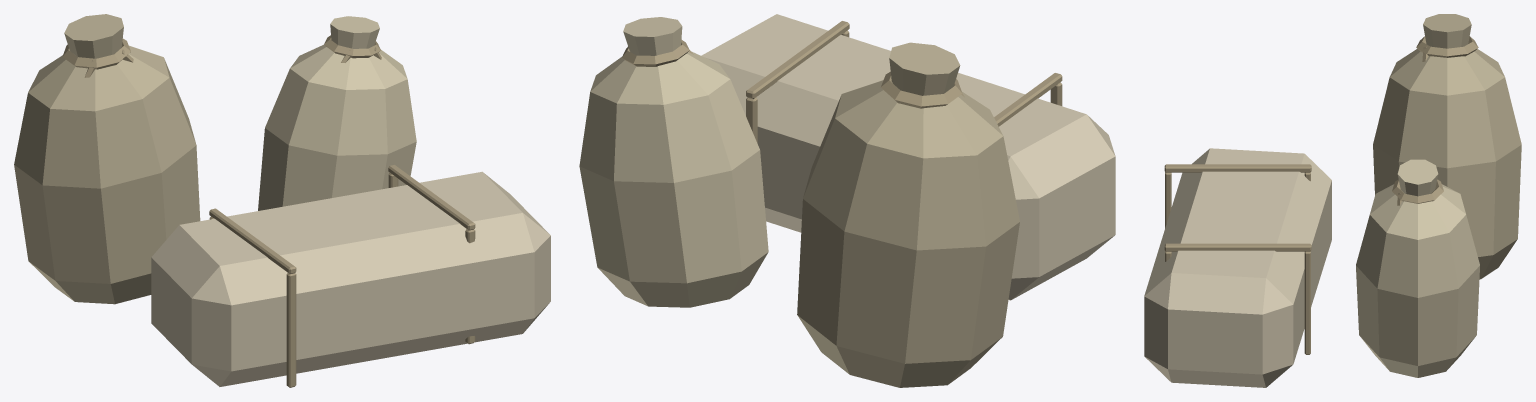
Rendered from camp_sacks.glb.
3 views of the same model, side by side, from view 1: azimuth 30°, elevation 25°; view 2: azimuth 150°, elevation 25°; view 3: azimuth 270°, elevation 25° (orthographic). The views are drawn at different scales.
Visible parts, largest first — view 1: camp_sacks_camp_canvas, camp_sacks_camp_sack, camp_sacks_camp_sack_light, camp_sacks_camp_rope; view 2: camp_sacks_camp_sack, camp_sacks_camp_sack_light, camp_sacks_camp_canvas, camp_sacks_camp_rope; view 3: camp_sacks_camp_canvas, camp_sacks_camp_sack, camp_sacks_camp_sack_light, camp_sacks_camp_rope.
Boxes of the visible parts, x1,y1,x2,y2 form: camp_sacks_camp_canvas: (151, 171, 550, 386); camp_sacks_camp_sack: (14, 14, 200, 304); camp_sacks_camp_sack_light: (258, 16, 416, 210); camp_sacks_camp_rope: (62, 35, 475, 387); camp_sacks_camp_sack: (797, 42, 1019, 387); camp_sacks_camp_sack_light: (579, 17, 768, 307); camp_sacks_camp_canvas: (701, 14, 1115, 300); camp_sacks_camp_rope: (622, 21, 1062, 143); camp_sacks_camp_canvas: (1144, 148, 1331, 387); camp_sacks_camp_sack: (1373, 14, 1521, 279); camp_sacks_camp_sack_light: (1356, 159, 1479, 377); camp_sacks_camp_rope: (1164, 36, 1478, 354).
Size of the model in its own units: 1.08 by 0.7249 by 1.03.
